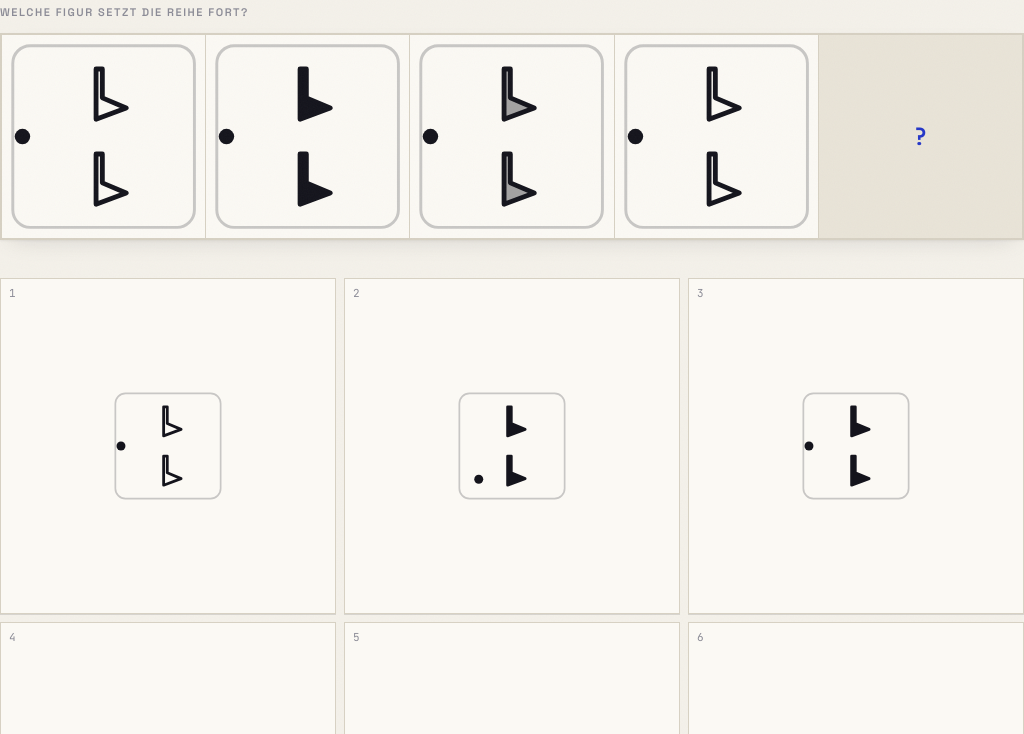
Test case: figurenreihen play surface › marks the pick that continues the row
What coordinates should you click on to do the following:
click the button with class "choice" showing "3"
I would click on:
 (856, 446)
Its box is [688, 278, 1023, 614].
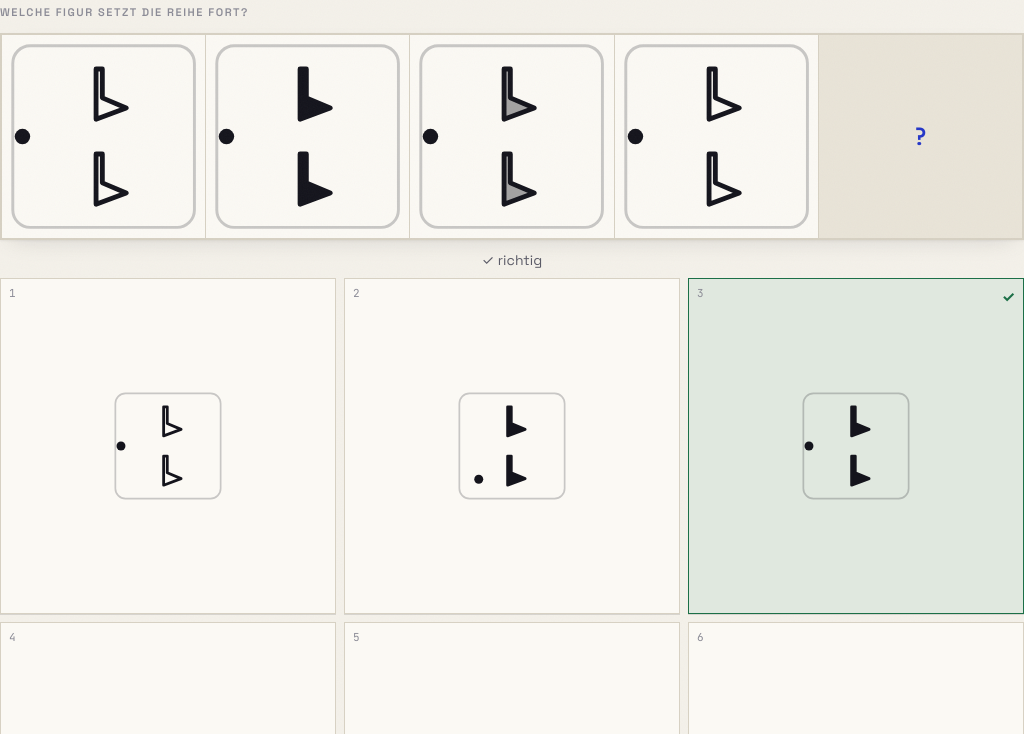
expect the number of buttons with class "is-correct" is 1: met, box [688, 278, 1023, 614]
expect the message "✓ richtig" is shown: met, box [482, 251, 542, 269]
